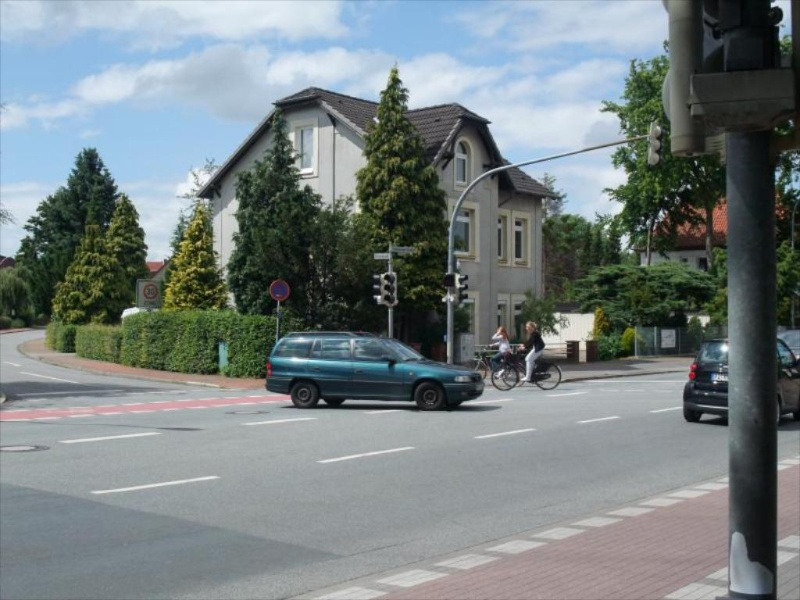speed_limit_30: (134, 278, 160, 305)
